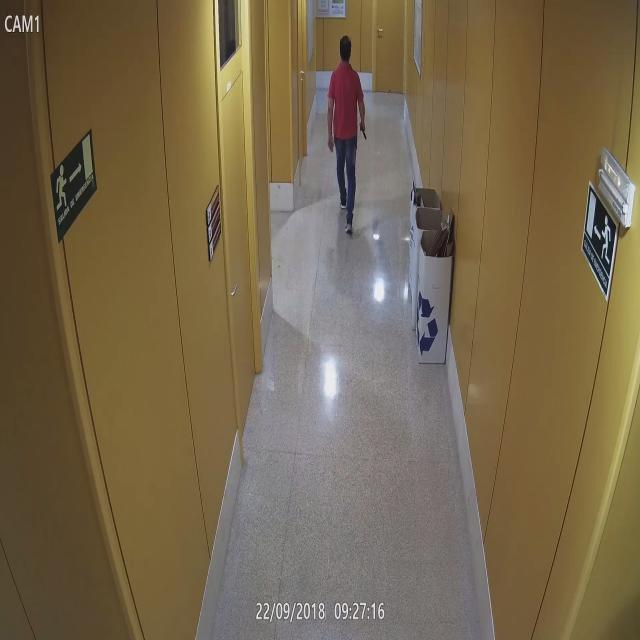weapon: (359, 125, 366, 142)
